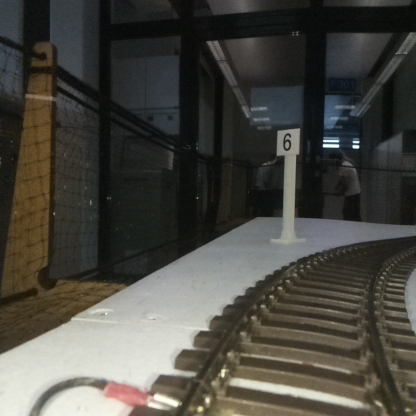white-info-6: (277, 129, 299, 243)
